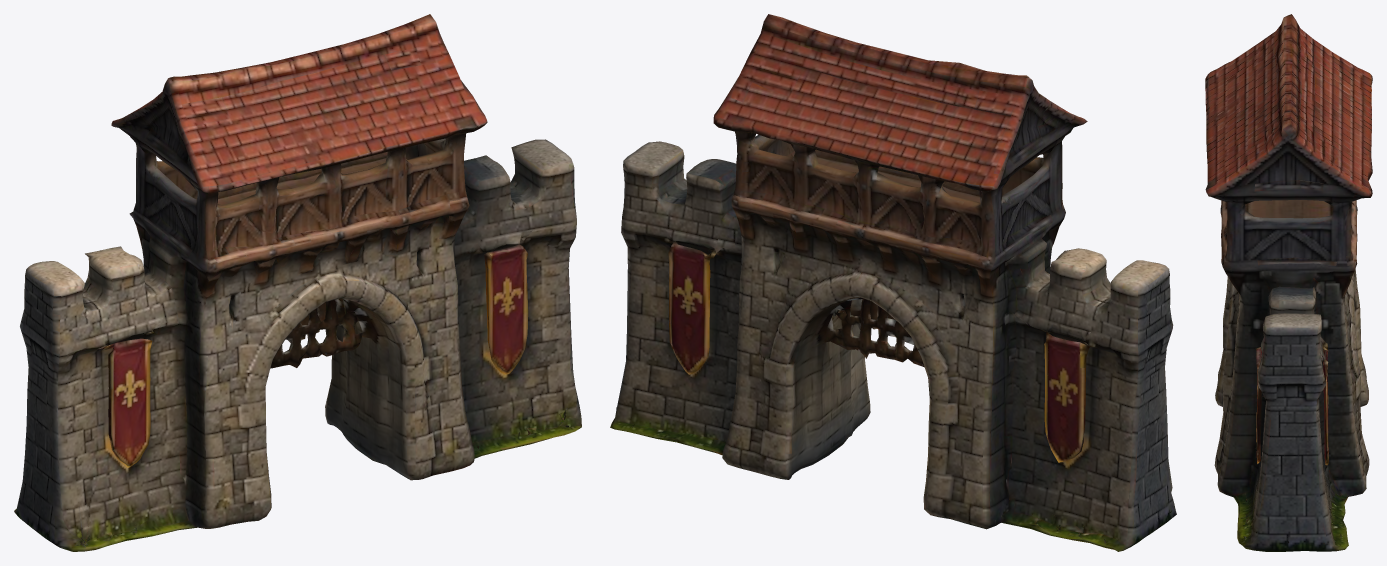
3 renders of one model, left to right at view 1: azimuth 30°, elevation 25°; view 2: azimuth 150°, elevation 25°; view 3: azimuth 270°, elevation 25°, orthographic. The views are drawn at different scales.
Visible parts, largest first — view 1: tripo_node_f2e352db-99cf-4613-8d8d-1204f8eb7ba1; view 2: tripo_node_f2e352db-99cf-4613-8d8d-1204f8eb7ba1; view 3: tripo_node_f2e352db-99cf-4613-8d8d-1204f8eb7ba1.
Part boxes in pixels (x1,y1,x2,y2): tripo_node_f2e352db-99cf-4613-8d8d-1204f8eb7ba1: (14,14,581,551); tripo_node_f2e352db-99cf-4613-8d8d-1204f8eb7ba1: (610,14,1176,551); tripo_node_f2e352db-99cf-4613-8d8d-1204f8eb7ba1: (1205,14,1372,551).
Bounding box in the file's own units: 0.969 × 0.7457 × 0.3054.
Materials: 1 (1 with a texture image).
